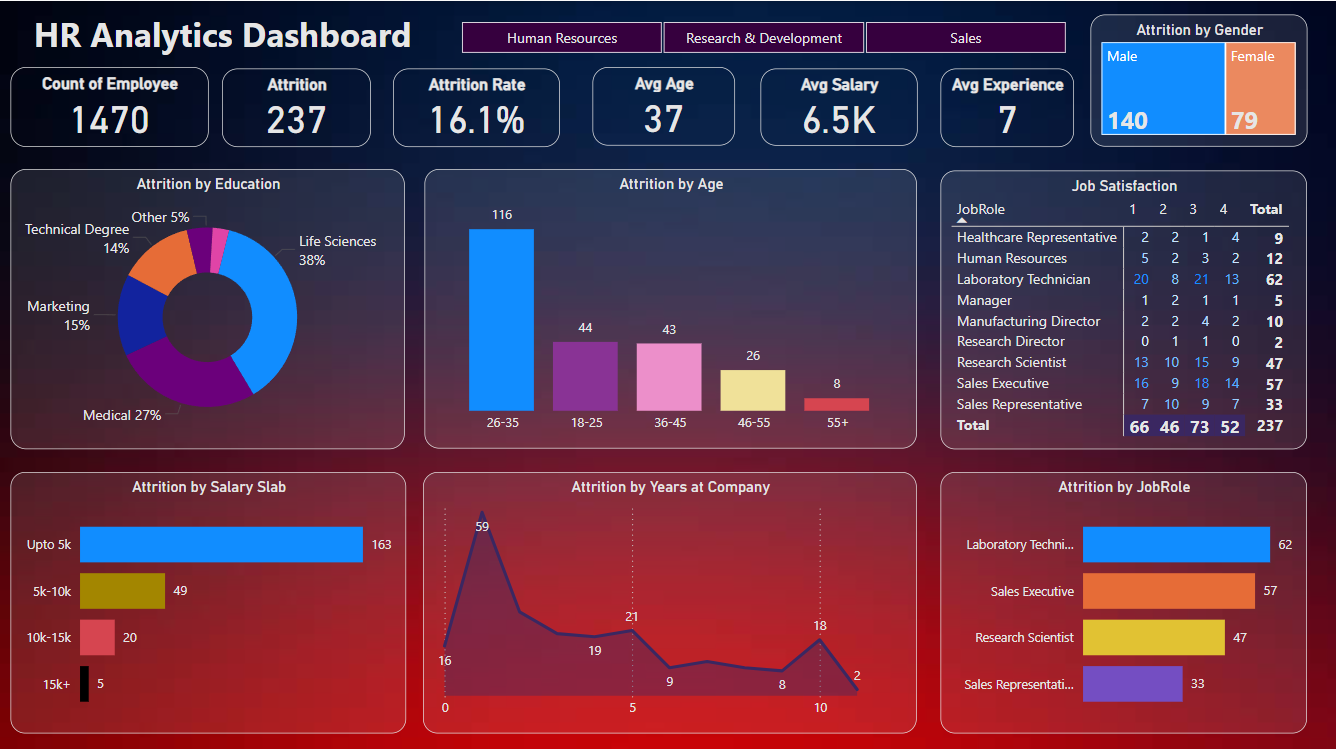

Layout of this report page (visuals, bound fields, positions):
{"tool":"powerbi","page":{"name":"Page 1","canvas":[1280,720],"ordinal":0},"visuals":[{"type":"card","title":"Count of Employee","fields":{"Values":["CountNonNull(HR_Analytics.EmpID)"]},"box":[9.4,62.7,189.7,76.8],"z":0},{"type":"card","title":"Attrition","fields":{"Values":["Sum(HR_Analytics.AttritionCount)"]},"box":[213.2,64.3,142.7,75.3],"z":1000},{"type":"card","title":"Attrition Rate","fields":{"Values":["HR_Analytics.AttritionRate"]},"box":[376.3,64.3,159.9,75.3],"z":2000},{"type":"card","title":"Avg Age","fields":{"Values":["Avg(HR_Analytics.Age)"]},"box":[567.6,62.7,136.4,75.3],"z":3000},{"type":"card","title":"Avg Salary","fields":{"Values":["Avg(HR_Analytics.MonthlyIncome)"]},"box":[729.1,64.3,150.5,73.7],"z":4000},{"type":"card","title":"Avg Experience","fields":{"Values":["Avg(HR_Analytics.YearsAtCompany)"]},"box":[901.6,64.1,128.1,75],"z":5000},{"type":"donutChart","title":"Attrition by Education","fields":{"Category":["HR_Analytics.EducationField"],"Y":["Sum(HR_Analytics.AttritionCount)"]},"box":[10.1,161.1,378.2,268.9],"z":6000},{"type":"columnChart","title":"Attrition by Age","fields":{"Category":["HR_Analytics.AgeGroup"],"Y":["Sum(HR_Analytics.AttritionCount)"]},"box":[407.7,161.5,472,268.1],"z":7000},{"type":"barChart","title":"Attrition by Salary Slab","fields":{"Category":["HR_Analytics.SalarySlab"],"Y":["Sum(HR_Analytics.AttritionCount)"]},"box":[9.4,451.6,379.5,250.9],"z":8000},{"type":"barChart","title":"Attrition by JobRole","fields":{"Y":["Sum(HR_Analytics.AttritionCount)"],"Category":["HR_Analytics.JobRole"]},"box":[901.6,451.6,351.2,250.9],"z":9000},{"type":"areaChart","title":"Attrition by Years at Company","fields":{"Category":["HR_Analytics.YearsAtCompany"],"Y":["Sum(HR_Analytics.AttritionCount)"]},"box":[406.1,451.6,473.5,250.9],"z":10000},{"type":"treemap","title":"Attrition by Gender","fields":{"Group":["HR_Analytics.Gender"],"Values":["Sum(HR_Analytics.AttritionCount)"]},"box":[1045.3,12.5,207.8,126.6],"z":11000},{"type":"slicer","fields":{"Values":["HR_Analytics.Department"]},"box":[417.1,12.5,628.8,43.9],"z":12000},{"type":"textbox","box":[10.1,4.3,407,59],"z":13000},{"type":"pivotTable","title":"Job Satisfaction","fields":{"Rows":["HR_Analytics.JobRole"],"Columns":["HR_Analytics.JobSatisfaction"],"Values":["Sum(HR_Analytics.AttritionCount)"]},"box":[901.6,162.5,351.6,267.2],"z":14000}]}

Visuals, with their boxes in screenshot pixels (x1, y1, x2, y2), scaled from the page's 1280x720 canvas onto the 1336x749 screenshot:
"Count of Employee" card: Rect(10, 65, 208, 145)
"Attrition" card: Rect(223, 67, 371, 145)
"Attrition Rate" card: Rect(393, 67, 560, 145)
"Avg Age" card: Rect(592, 65, 735, 144)
"Avg Salary" card: Rect(761, 67, 918, 144)
"Avg Experience" card: Rect(941, 67, 1075, 145)
"Attrition by Education" donutChart: Rect(11, 168, 405, 447)
"Attrition by Age" columnChart: Rect(426, 168, 918, 447)
"Attrition by Salary Slab" barChart: Rect(10, 470, 406, 731)
"Attrition by JobRole" barChart: Rect(941, 470, 1308, 731)
"Attrition by Years at Company" areaChart: Rect(424, 470, 918, 731)
"Attrition by Gender" treemap: Rect(1091, 13, 1308, 145)
slicer - HR_Analytics.Department: Rect(435, 13, 1092, 59)
textbox: Rect(11, 4, 435, 66)
"Job Satisfaction" pivotTable: Rect(941, 169, 1308, 447)
